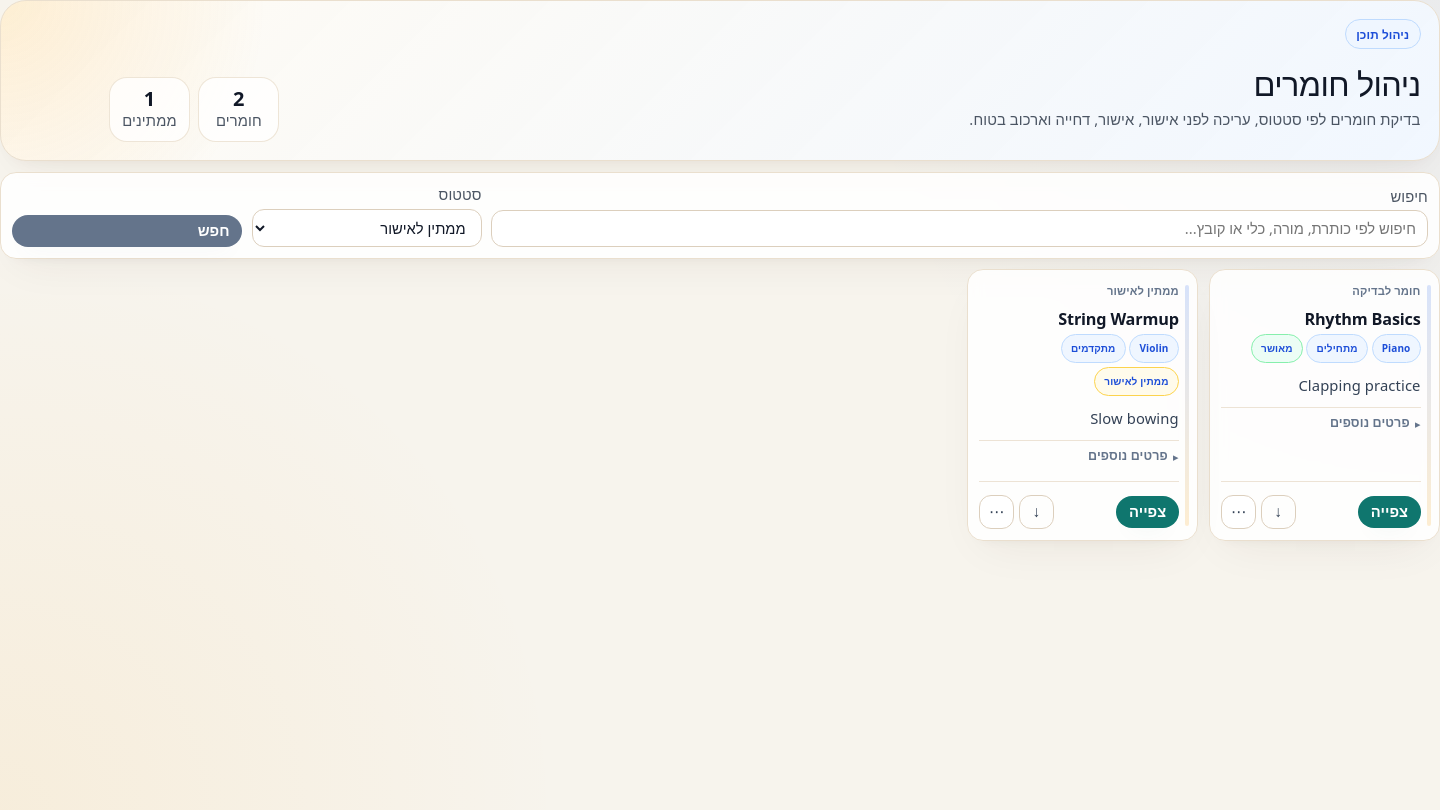
Test: AdminPendingMaterialsPage › opens edit on a separate page and saves changes
Expected: the text "String Warmup" is shown, [1058, 308, 1179, 330]
Click the button named "פעולות נוספות".
click(997, 512)  # box [979, 495, 1014, 529]
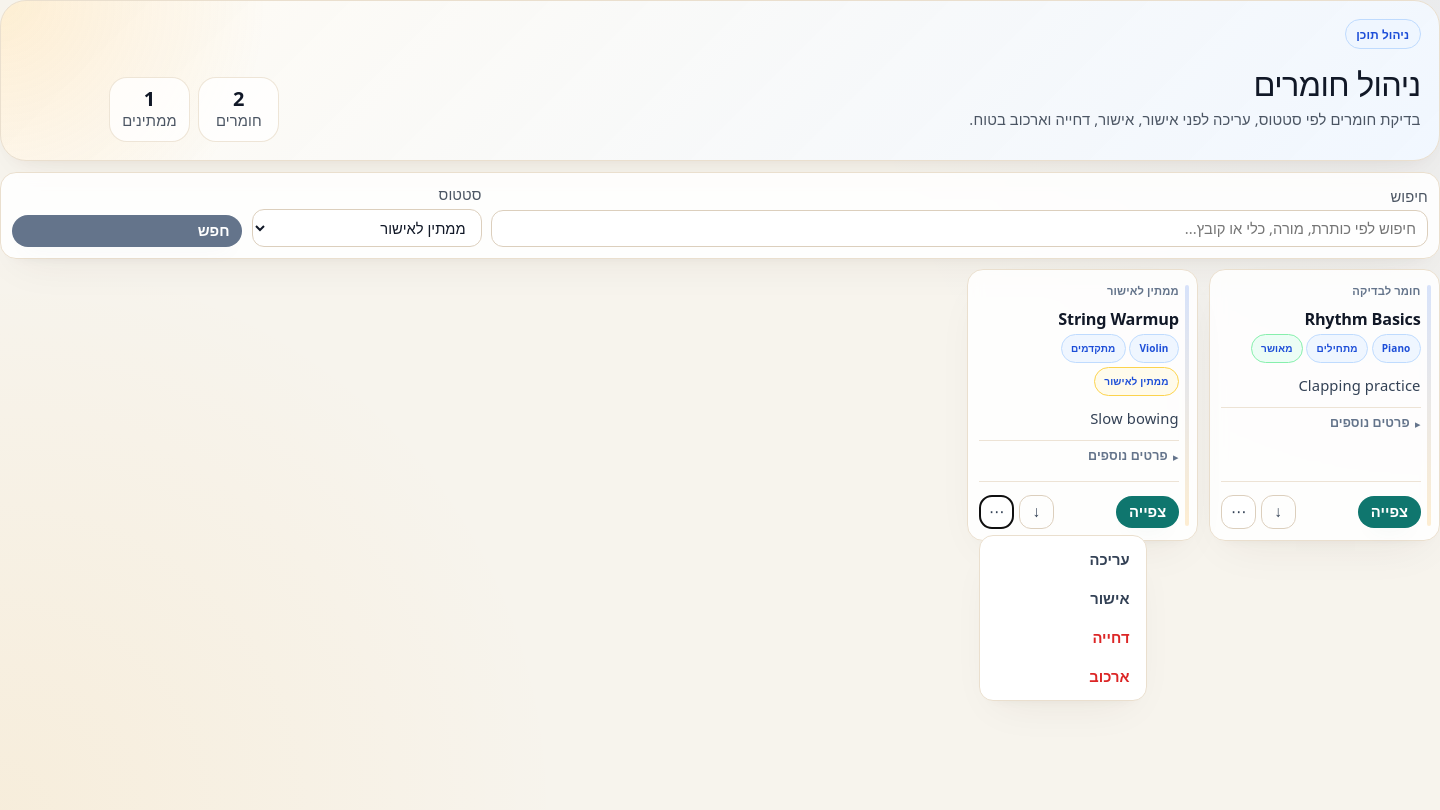
Click the menu item "עריכה".
click(1063, 559)  # box [986, 541, 1141, 578]
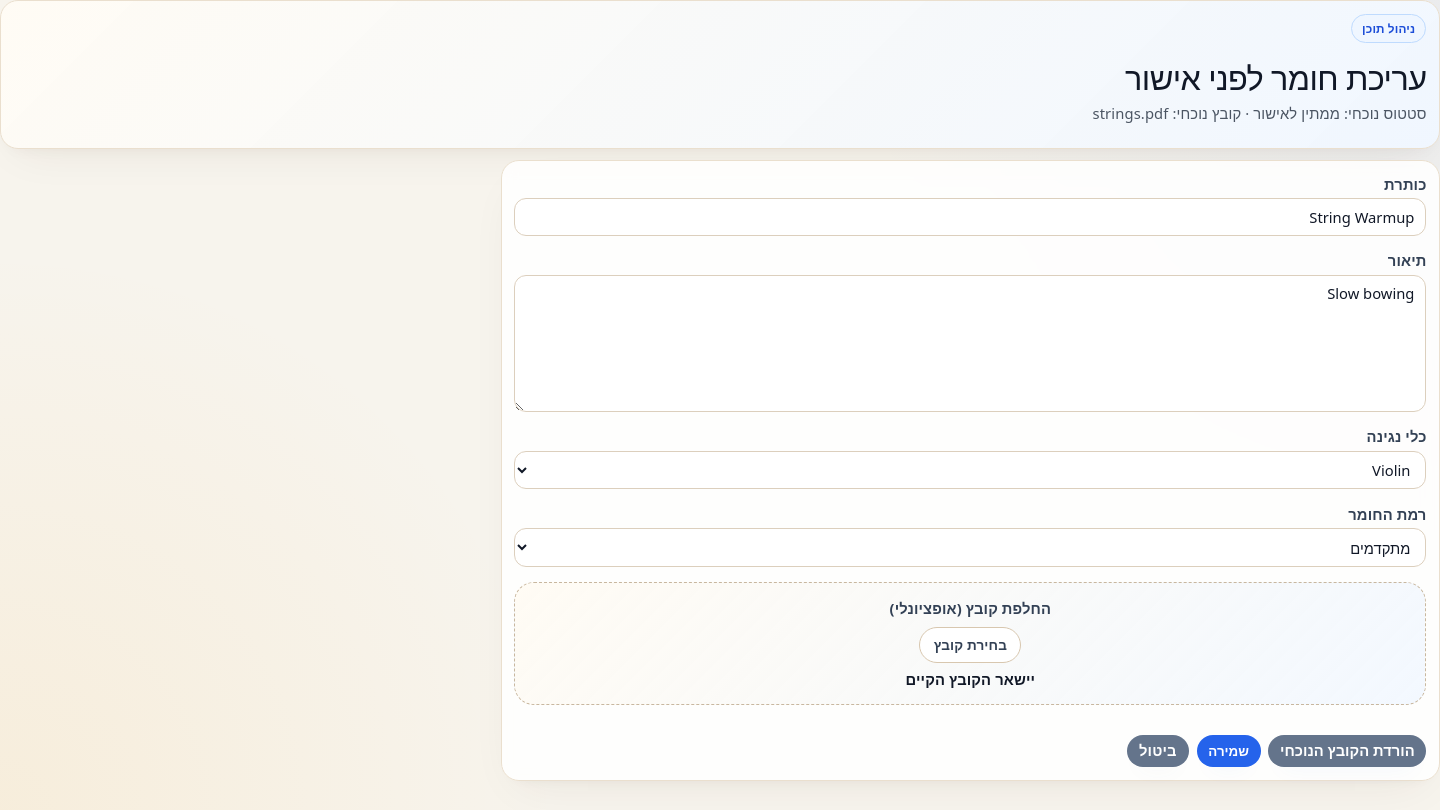
Expected: the heading "עריכת חומר לפני אישור" is shown, [1125, 55, 1426, 100]
Replace the text in the field labelled "כותרת" with "Updated By Admin" at point(970, 217), box [514, 198, 1426, 236]
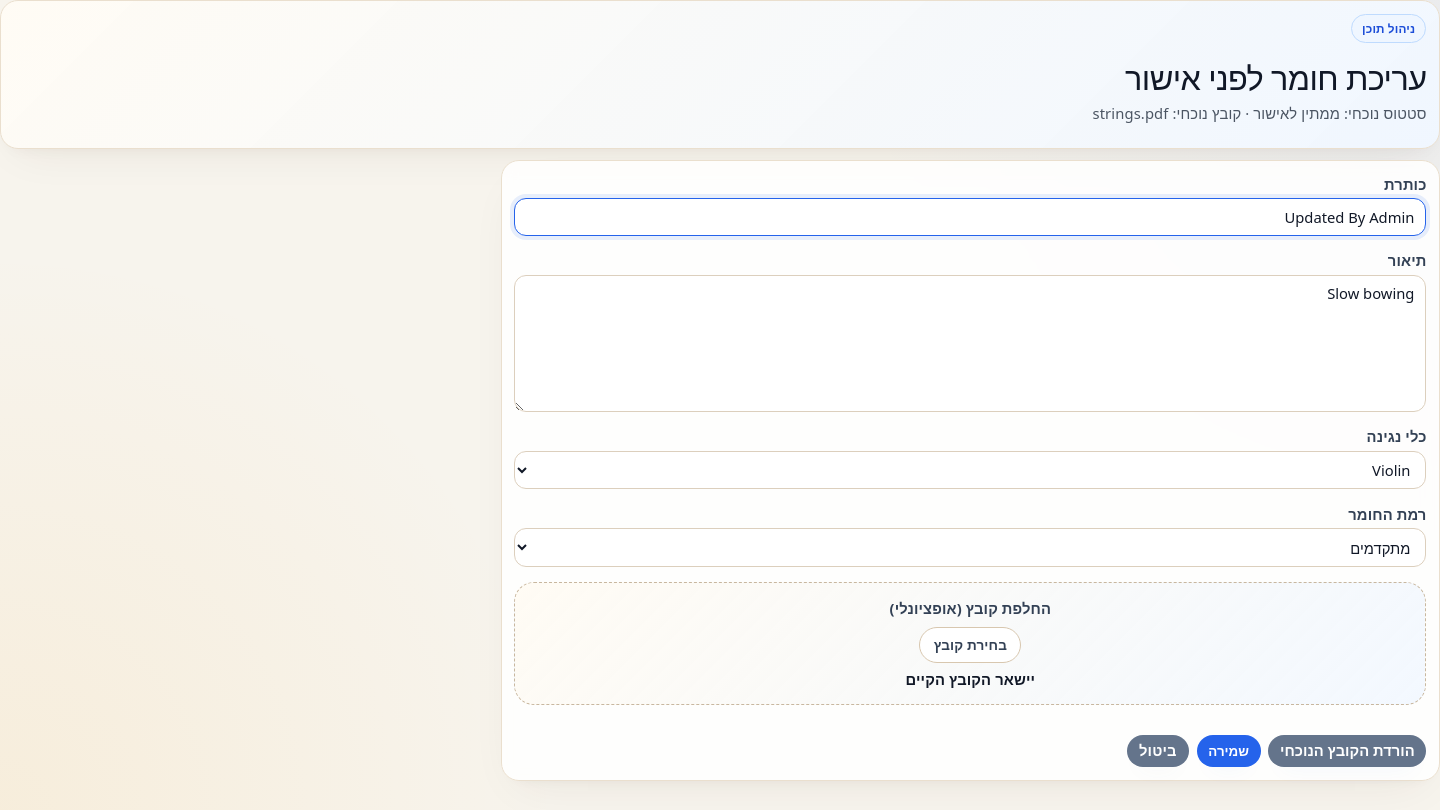
Click the button "שמירה".
click(1229, 751)  # box [1196, 735, 1261, 768]
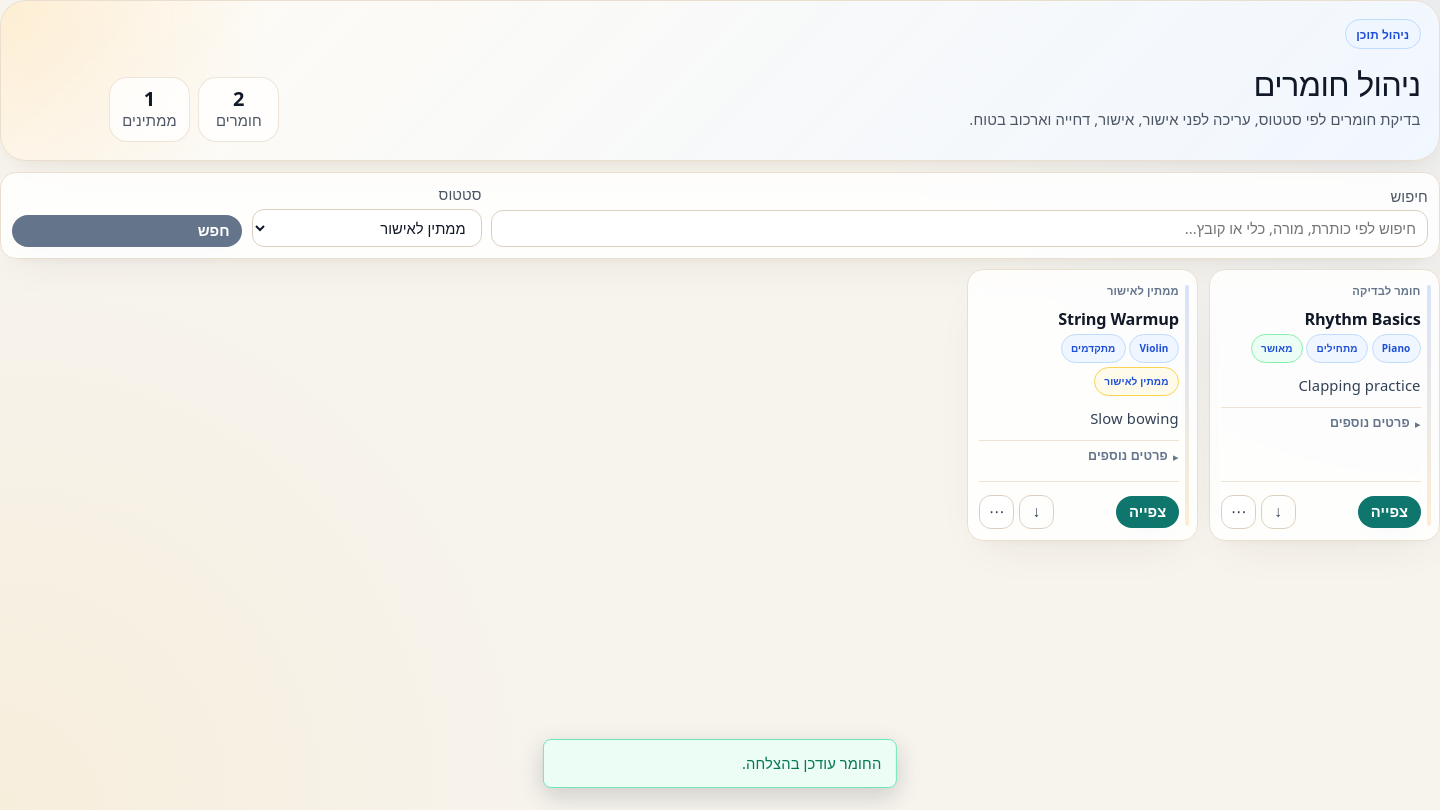
Expected: the text "החומר עודכן בהצלחה." is shown, [543, 739, 897, 788]
